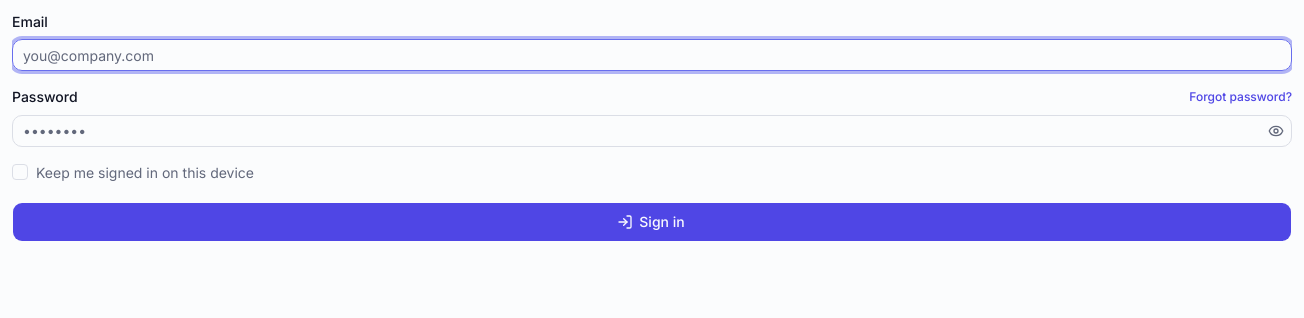
Test: <LoginForm> › shows the server message for INVALID_CREDENTIALS
In the field labelled "Email": (652, 55) [12, 39, 1292, 71], type "jane@example.com"
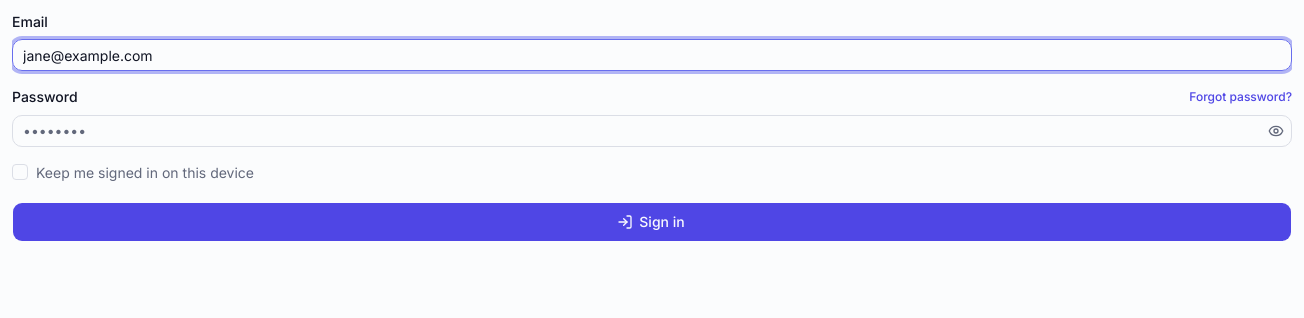
In the password field labelled "Password": (638, 130) [13, 114, 1264, 146], type "wrong"
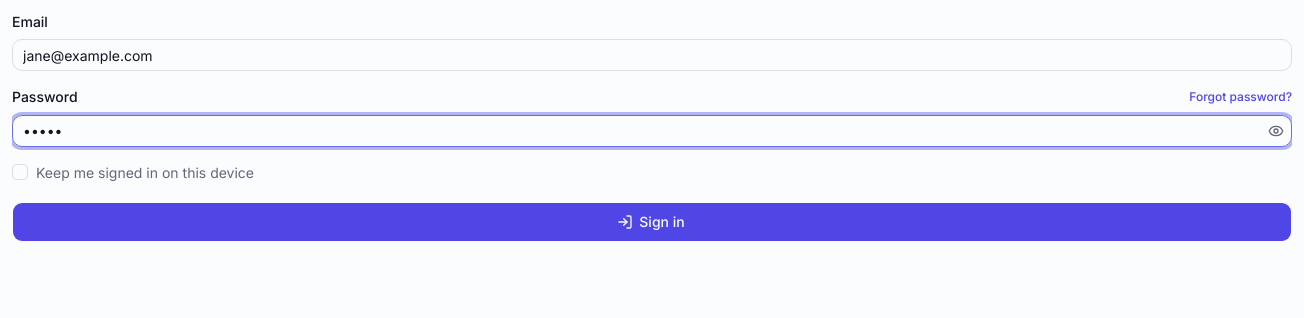
Click the button "Sign in": click(652, 222) [12, 202, 1292, 242]
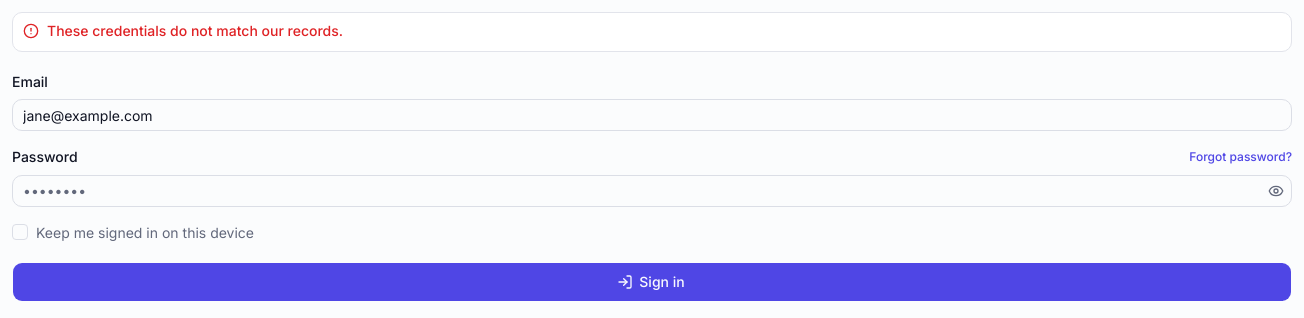
Expected: the text "These credentials do not match our records." is shown, [47, 22, 343, 39]
Expected: the password field labelled "Password" is empty, [13, 174, 1264, 206]
